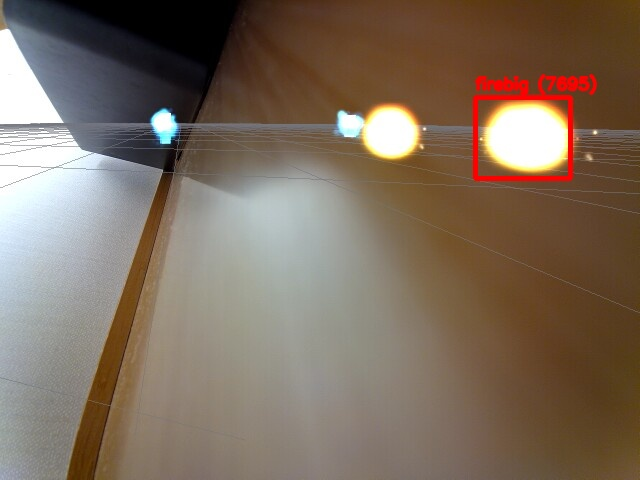firebig: (475, 97, 570, 178)
